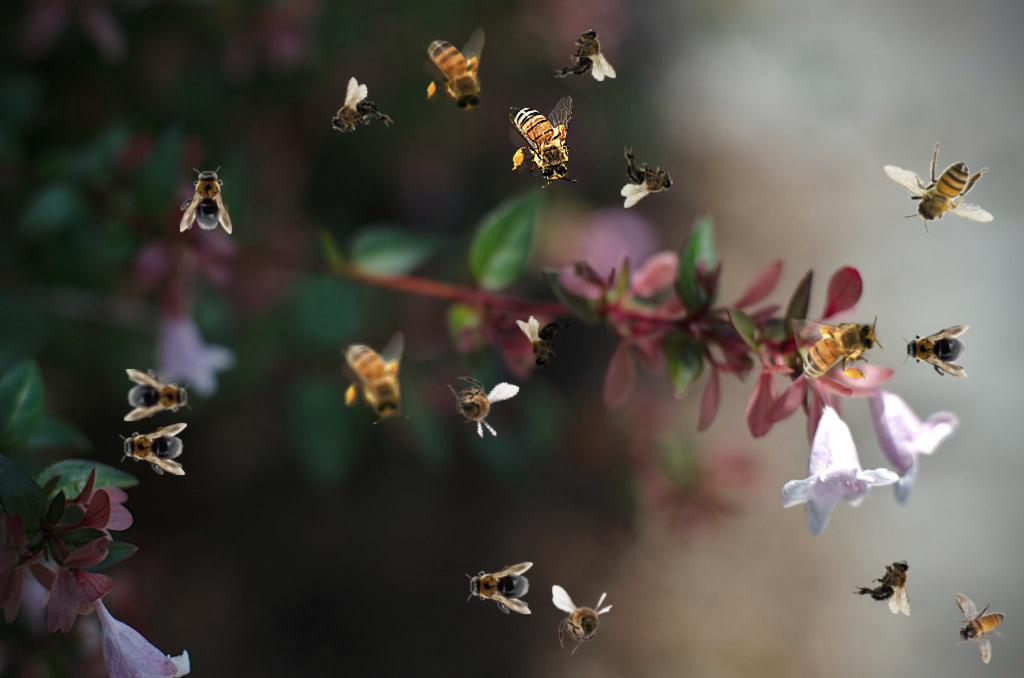Bee: (883, 142, 994, 236), (434, 365, 521, 445), (316, 74, 397, 156), (422, 26, 490, 119), (341, 331, 409, 424), (509, 95, 577, 188), (790, 315, 883, 383), (850, 546, 929, 620), (552, 585, 613, 655), (955, 593, 1005, 664), (465, 562, 533, 614), (119, 423, 187, 475), (180, 166, 232, 234), (124, 369, 192, 421), (901, 325, 969, 377), (621, 146, 674, 208), (554, 28, 616, 81), (516, 316, 578, 369)
